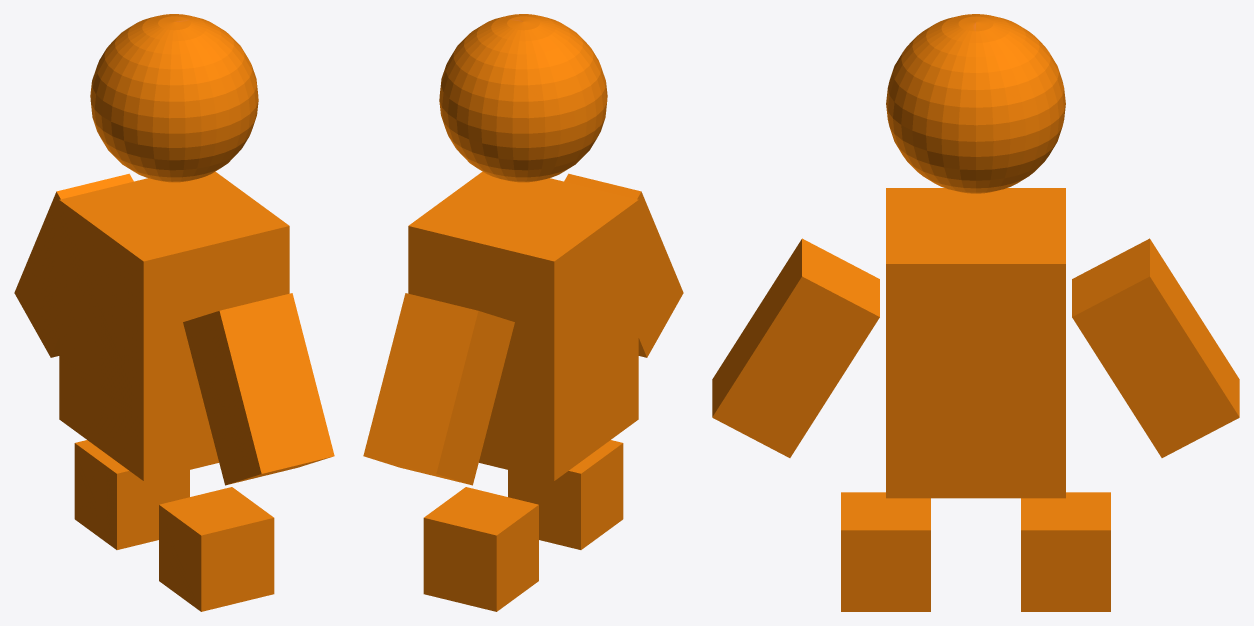
The model's file is enemy3.obj.
3 views of the same model, side by side, from view 1: azimuth 30°, elevation 25°; view 2: azimuth 150°, elevation 25°; view 3: azimuth 270°, elevation 25° (orthographic). The views are drawn at different scales.
Parts seen in each view (by area): view 1: Cube_Cube.007, Sphere, Cube.004_Cube.006, Cube.002_Cube.004, Cube.001_Cube.003, Cube.003_Cube.005; view 2: Cube_Cube.007, Sphere, Cube.003_Cube.005, Cube.001_Cube.003, Cube.002_Cube.004, Cube.004_Cube.006; view 3: Cube_Cube.007, Sphere, Cube.003_Cube.005, Cube.004_Cube.006, Cube.001_Cube.003, Cube.002_Cube.004.
Part boxes in pixels (left/top/right/bottom): Cube_Cube.007: left=59, top=171, right=289, bottom=480; Sphere: left=90, top=14, right=258, bottom=182; Cube.004_Cube.006: left=183, top=293, right=334, bottom=485; Cube.002_Cube.004: left=159, top=487, right=274, bottom=611; Cube.001_Cube.003: left=74, top=440, right=189, bottom=549; Cube.003_Cube.005: left=14, top=173, right=133, bottom=357; Cube_Cube.007: left=408, top=171, right=638, bottom=480; Sphere: left=439, top=14, right=607, bottom=182; Cube.003_Cube.005: left=363, top=293, right=514, bottom=485; Cube.001_Cube.003: left=423, top=487, right=538, bottom=611; Cube.002_Cube.004: left=508, top=440, right=623, bottom=549; Cube.004_Cube.006: left=564, top=173, right=683, bottom=357; Cube_Cube.007: left=886, top=188, right=1065, bottom=498; Sphere: left=886, top=14, right=1065, bottom=193; Cube.003_Cube.005: left=1072, top=238, right=1239, bottom=457; Cube.004_Cube.006: left=712, top=238, right=879, bottom=457; Cube.001_Cube.003: left=1021, top=492, right=1110, bottom=611; Cube.002_Cube.004: left=841, top=492, right=930, bottom=611.
Bounding box in the file's own units: 2 × 7 × 5.87.
